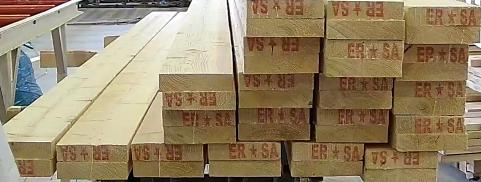Wood-Plank: (325, 39, 405, 60), (324, 57, 404, 77), (327, 20, 406, 40), (320, 72, 393, 93), (327, 1, 405, 20), (158, 74, 235, 93), (243, 37, 320, 56), (292, 142, 365, 162), (393, 78, 466, 98), (318, 90, 393, 109), (365, 148, 436, 168), (317, 107, 390, 126), (407, 23, 480, 42), (247, 18, 324, 36), (238, 72, 315, 90), (163, 91, 235, 110), (248, 0, 324, 18), (244, 55, 320, 73), (239, 90, 314, 108), (55, 144, 129, 162), (407, 7, 481, 25), (208, 142, 281, 160), (163, 126, 236, 144), (238, 123, 311, 141), (316, 124, 389, 142), (400, 44, 469, 63), (56, 162, 128, 180), (398, 63, 468, 81), (397, 133, 467, 151), (209, 160, 282, 177), (133, 161, 204, 178), (163, 110, 236, 126), (393, 98, 466, 114), (239, 108, 311, 124), (132, 144, 203, 160), (0, 141, 53, 162), (291, 162, 364, 177), (396, 117, 464, 133), (364, 169, 438, 182), (0, 161, 52, 177)
